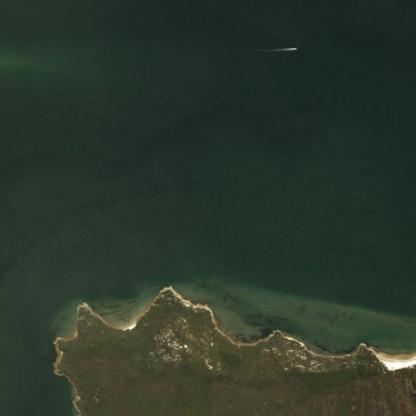ship: (284, 39, 302, 56)
